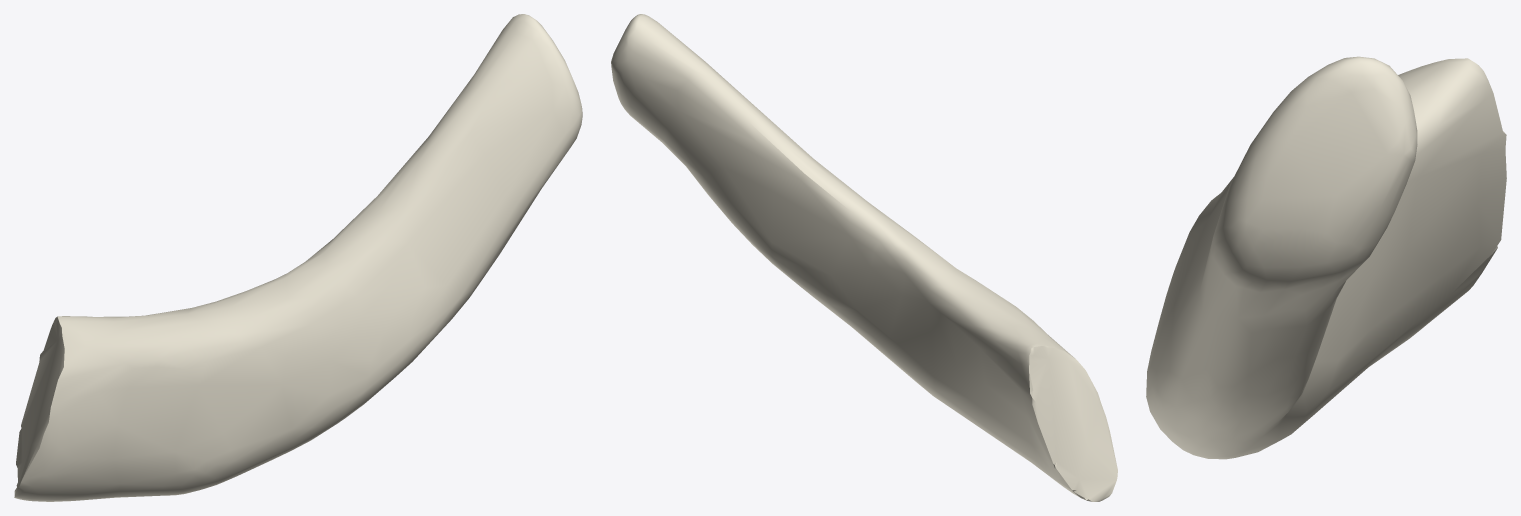
Rendered from fma8070_fj3341.glb.
3 views of the same model, side by side, from view 1: azimuth 30°, elevation 25°; view 2: azimuth 150°, elevation 25°; view 3: azimuth 270°, elevation 25° (orthographic). The views are drawn at different scales.
Visible parts, largest first — view 1: FMA8070_FJ3341; view 2: FMA8070_FJ3341; view 3: FMA8070_FJ3341.
Boxes of the visible parts, left/top/right/bottom form: FMA8070_FJ3341: left=14, top=14, right=582, bottom=501; FMA8070_FJ3341: left=611, top=14, right=1117, bottom=501; FMA8070_FJ3341: left=1146, top=56, right=1506, bottom=459.
Bounding box in the file's own units: 0.0645 × 0.0436 × 0.0197.
